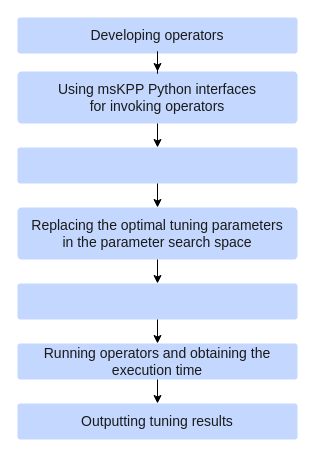
The diagram is 314 pixels wide and 456 high, and some of its shapes have lost their labels. The shapes that lost their labels are listed below. From the top down, each one's centre as x and y in pixels, then its label:
At point 157,165: "Identifying the parameters to be tuned".
At point 157,301: "Compiling operators in parallel".
